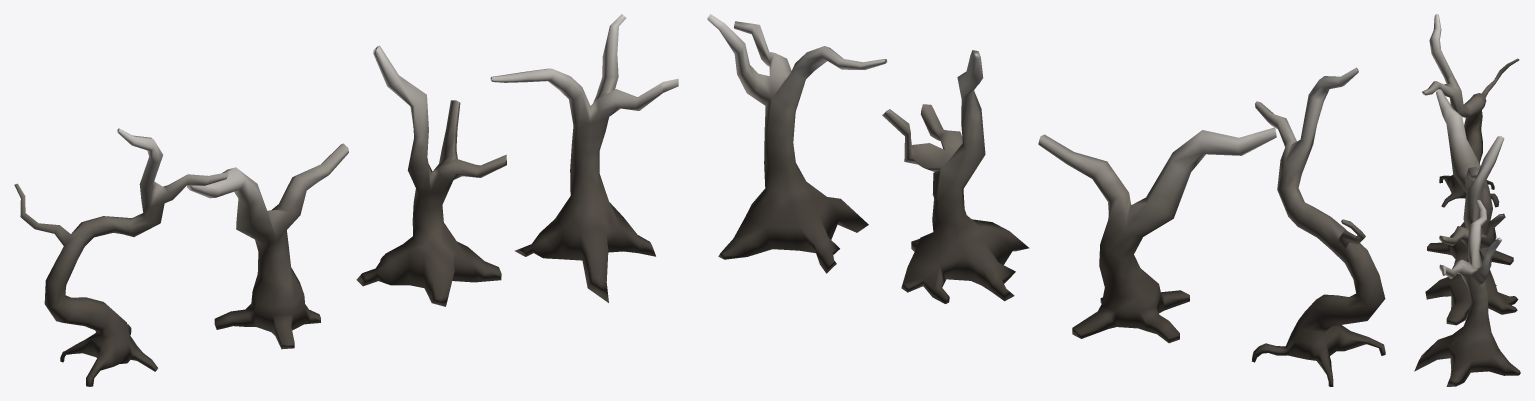
The model's file is M_Trees_SizeS_01.fbx.
3 renders of one model, left to right at view 1: azimuth 30°, elevation 25°; view 2: azimuth 150°, elevation 25°; view 3: azimuth 270°, elevation 25°, orthographic. The views are drawn at different scales.
Visible parts, largest first — view 1: M_Root_Tree01, M_Root_Tree02, M_Root_Tree04, M_Root_Tree03; view 2: M_Root_Tree01, M_Root_Tree03, M_Root_Tree02, M_Root_Tree04; view 3: M_Root_Tree01, M_Root_Tree02, M_Root_Tree04, M_Root_Tree03.
Boxes of the visible parts, left/top/right/bottom form: M_Root_Tree01: left=490, top=14, right=678, bottom=302; M_Root_Tree02: left=356, top=45, right=506, bottom=306; M_Root_Tree04: left=14, top=128, right=228, bottom=386; M_Root_Tree03: left=187, top=143, right=348, bottom=349; M_Root_Tree01: left=707, top=14, right=887, bottom=273; M_Root_Tree03: left=1038, top=127, right=1276, bottom=343; M_Root_Tree02: left=882, top=50, right=1029, bottom=303; M_Root_Tree04: left=1251, top=67, right=1385, bottom=386; M_Root_Tree01: left=1414, top=200, right=1520, bottom=386; M_Root_Tree02: left=1425, top=136, right=1518, bottom=325; M_Root_Tree04: left=1422, top=14, right=1519, bottom=207; M_Root_Tree03: left=1427, top=89, right=1513, bottom=265.
Size of the model in its own units: 1615 by 695 by 344.
